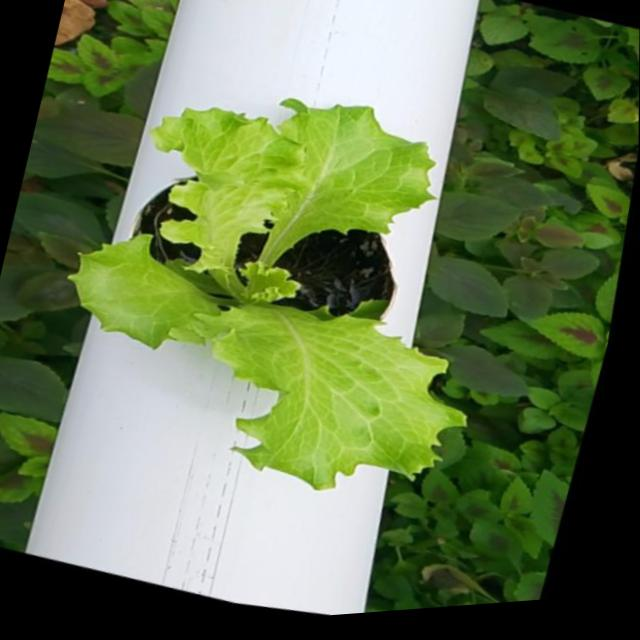Baby: (51, 101, 441, 485)
